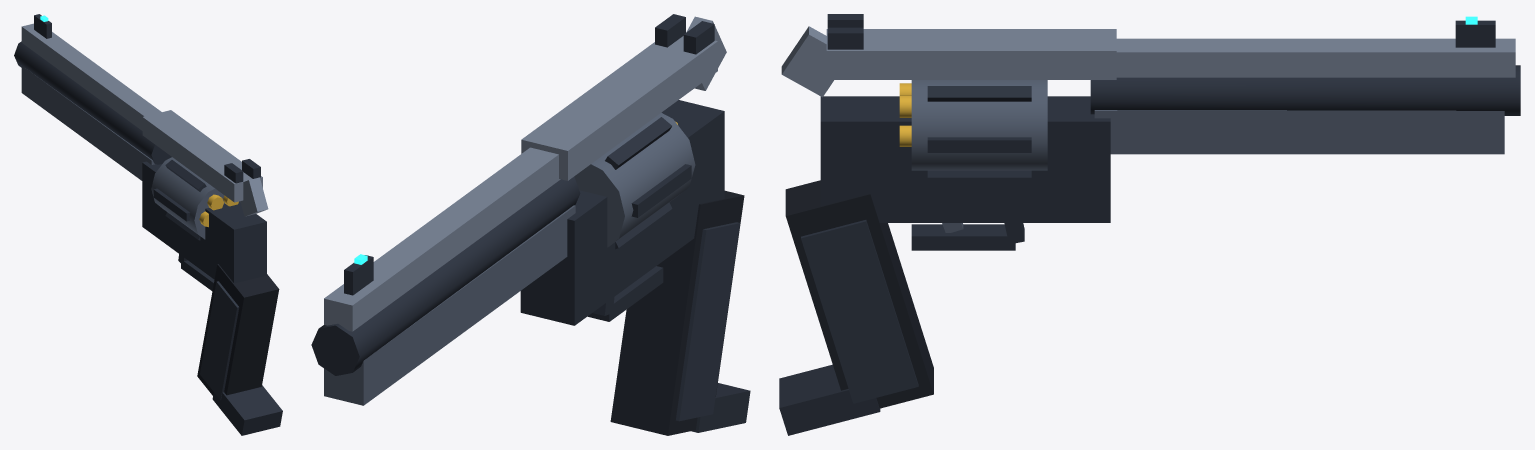
Rendered from revolver.glb.
3 renders of one model, left to right at view 1: azimuth 30°, elevation 25°; view 2: azimuth 150°, elevation 25°; view 3: azimuth 270°, elevation 25°, orthographic. The views are drawn at different scales.
Parts seen in each view (by area): view 1: Revolver_frame_body, Revolver_grip_core, Revolver_top_strap, Revolver_top_rib, Revolver_underlug, Revolver_barrel, Revolver_grip_panel, Revolver_buttcap, Revolver_cylinder, Revolver, Revolver_hammer, Revolver_guard_bot (+3 smaller); view 2: Revolver_frame_body, Revolver_grip_core, Revolver_top_rib, Revolver_top_strap, Revolver_underlug, Revolver_barrel, Revolver_grip_panel, Revolver_cylinder, Revolver, Revolver_buttcap, Revolver_guard_bot, Revolver_front_ramp (+3 smaller); view 3: Revolver_frame_body, Revolver_underlug, Revolver_top_rib, Revolver_barrel, Revolver_top_strap, Revolver_grip_panel, Revolver_cylinder, Revolver_grip_core, Revolver, Revolver_buttcap, Revolver_guard_bot, Revolver_hammer (+2 smaller).
Boxes of the visible parts, x1,y1,x2,y2 form: Revolver_frame_body: (142, 161, 266, 283); Revolver_grip_core: (197, 264, 279, 395); Revolver_top_strap: (142, 110, 262, 202); Revolver_top_rib: (21, 23, 161, 130); Revolver_underlug: (21, 65, 154, 180); Revolver_barrel: (14, 41, 171, 164); Revolver_grip_panel: (200, 281, 239, 400); Revolver_buttcap: (212, 385, 282, 435); Revolver_cylinder: (151, 157, 240, 239); Revolver: (153, 160, 238, 240); Revolver_hammer: (240, 177, 268, 216); Revolver_guard_bot: (181, 259, 214, 291); Revolver_frame_body: (520, 100, 724, 325); Revolver_grip_core: (610, 190, 744, 435); Revolver_top_rib: (324, 147, 560, 331); Revolver_top_strap: (521, 36, 717, 180); Revolver_underlug: (324, 205, 575, 405); Revolver_barrel: (311, 176, 580, 375); Revolver_grip_panel: (676, 222, 740, 421); Revolver_cylinder: (574, 112, 695, 247); Revolver: (605, 117, 691, 249); Revolver_buttcap: (691, 383, 750, 432); Revolver_guard_bot: (587, 266, 663, 321); Revolver_front_ramp: (344, 255, 373, 295); Revolver_frame_body: (820, 96, 1110, 222); Revolver_underlug: (1094, 110, 1504, 154); Revolver_top_rib: (1116, 38, 1515, 77); Revolver_barrel: (1090, 65, 1520, 115); Revolver_top_strap: (826, 29, 1116, 79); Revolver_grip_panel: (801, 220, 918, 403); Revolver_cylinder: (911, 80, 1047, 170); Revolver_grip_core: (785, 180, 933, 408); Revolver: (899, 83, 1031, 177); Revolver_buttcap: (779, 364, 880, 435); Revolver_guard_bot: (911, 224, 1015, 250); Revolver_hammer: (781, 26, 833, 97).
Size of the model in its own units: 0.055 by 0.2223 by 0.3708.
